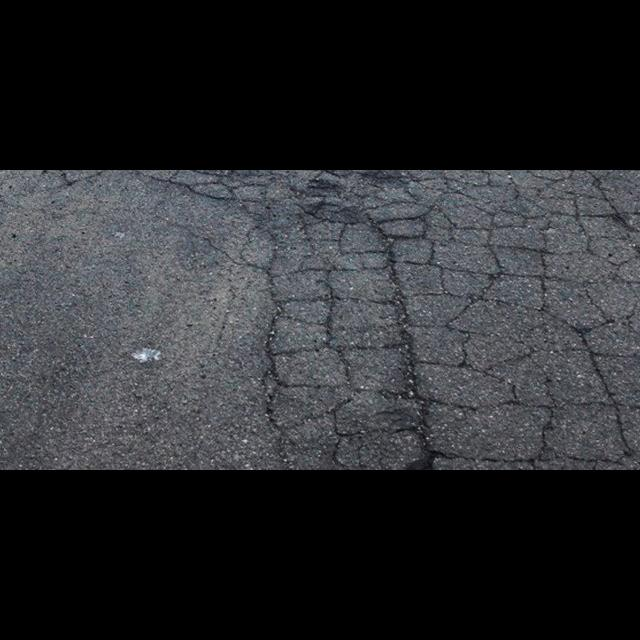retak_kulit_buaya: (222, 170, 640, 470)
